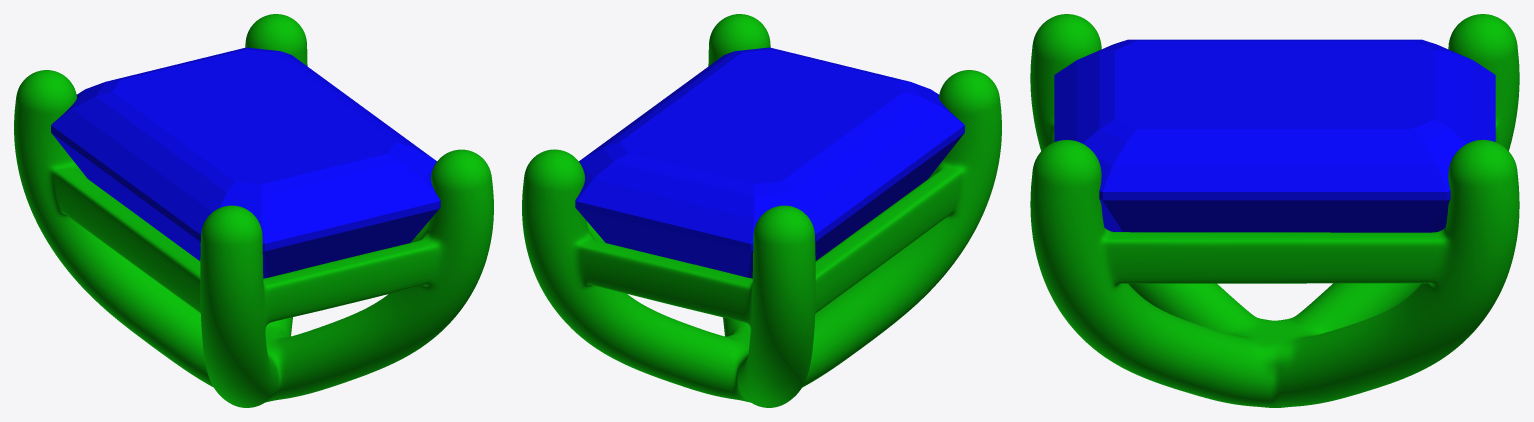
3 renders of one model, left to right at view 1: azimuth 30°, elevation 25°; view 2: azimuth 150°, elevation 25°; view 3: azimuth 270°, elevation 25°, orthographic. The views are drawn at different scales.
Parts seen in each view (by area): view 1: Metal01, Diamond_Emerald; view 2: Metal01, Diamond_Emerald; view 3: Metal01, Diamond_Emerald.
Part boxes in pixels (left/top/right/bottom): Metal01: left=14, top=14, right=493, bottom=407; Diamond_Emerald: left=51, top=47, right=440, bottom=278; Metal01: left=522, top=14, right=1001, bottom=407; Diamond_Emerald: left=575, top=47, right=964, bottom=278; Metal01: left=1030, top=14, right=1519, bottom=407; Diamond_Emerald: left=1054, top=39, right=1495, bottom=232.
Bounding box in the file's own units: 7.06 × 6.72 × 9.33.
